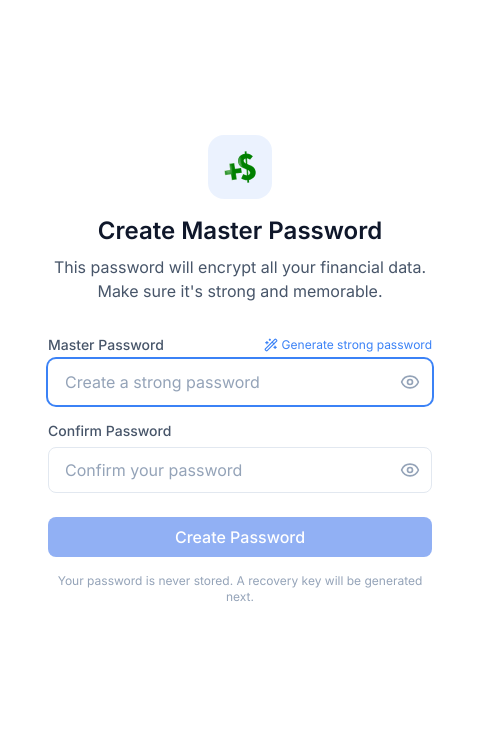
Test: SetupPage › advances to recovery key after successful account creation
Type "MySecurePass123!" into the password field labelled "Master Password".
click(240, 382); type("MySecurePass123!")  # box x1=48 y1=359 x2=432 y2=405
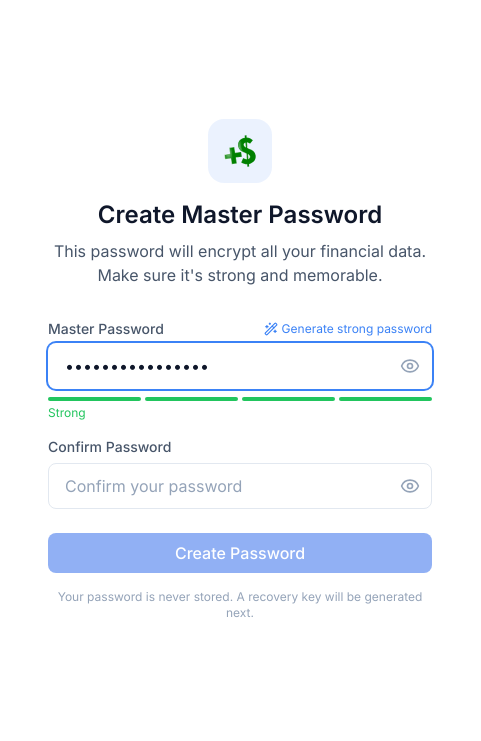
Type "MySecurePass123!" into the password field labelled "Confirm Password".
click(240, 486); type("MySecurePass123!")  # box x1=48 y1=463 x2=432 y2=509
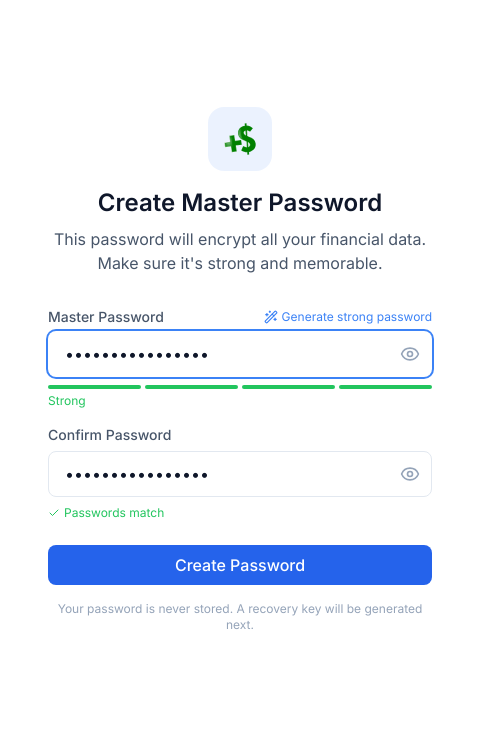
Click the button "Create Password".
click(240, 565)  # box x1=48 y1=545 x2=432 y2=585
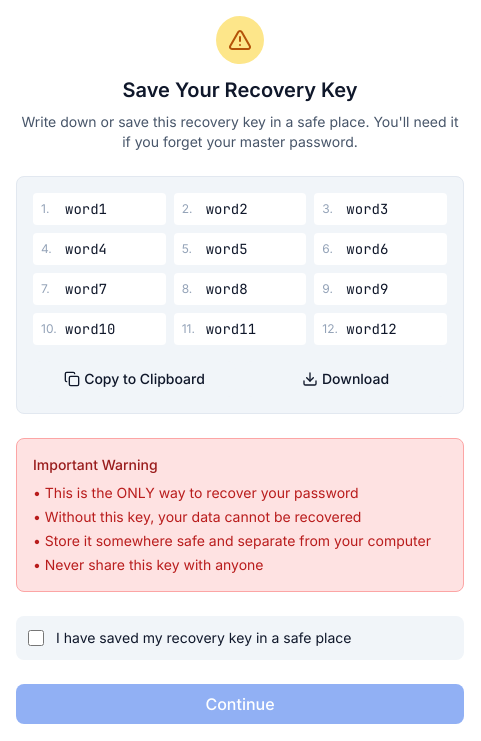
Now the heading "Save Your Recovery Key" is shown, box x1=122 y1=78 x2=357 y2=102
Now the heading "Create Master Password" is gone
